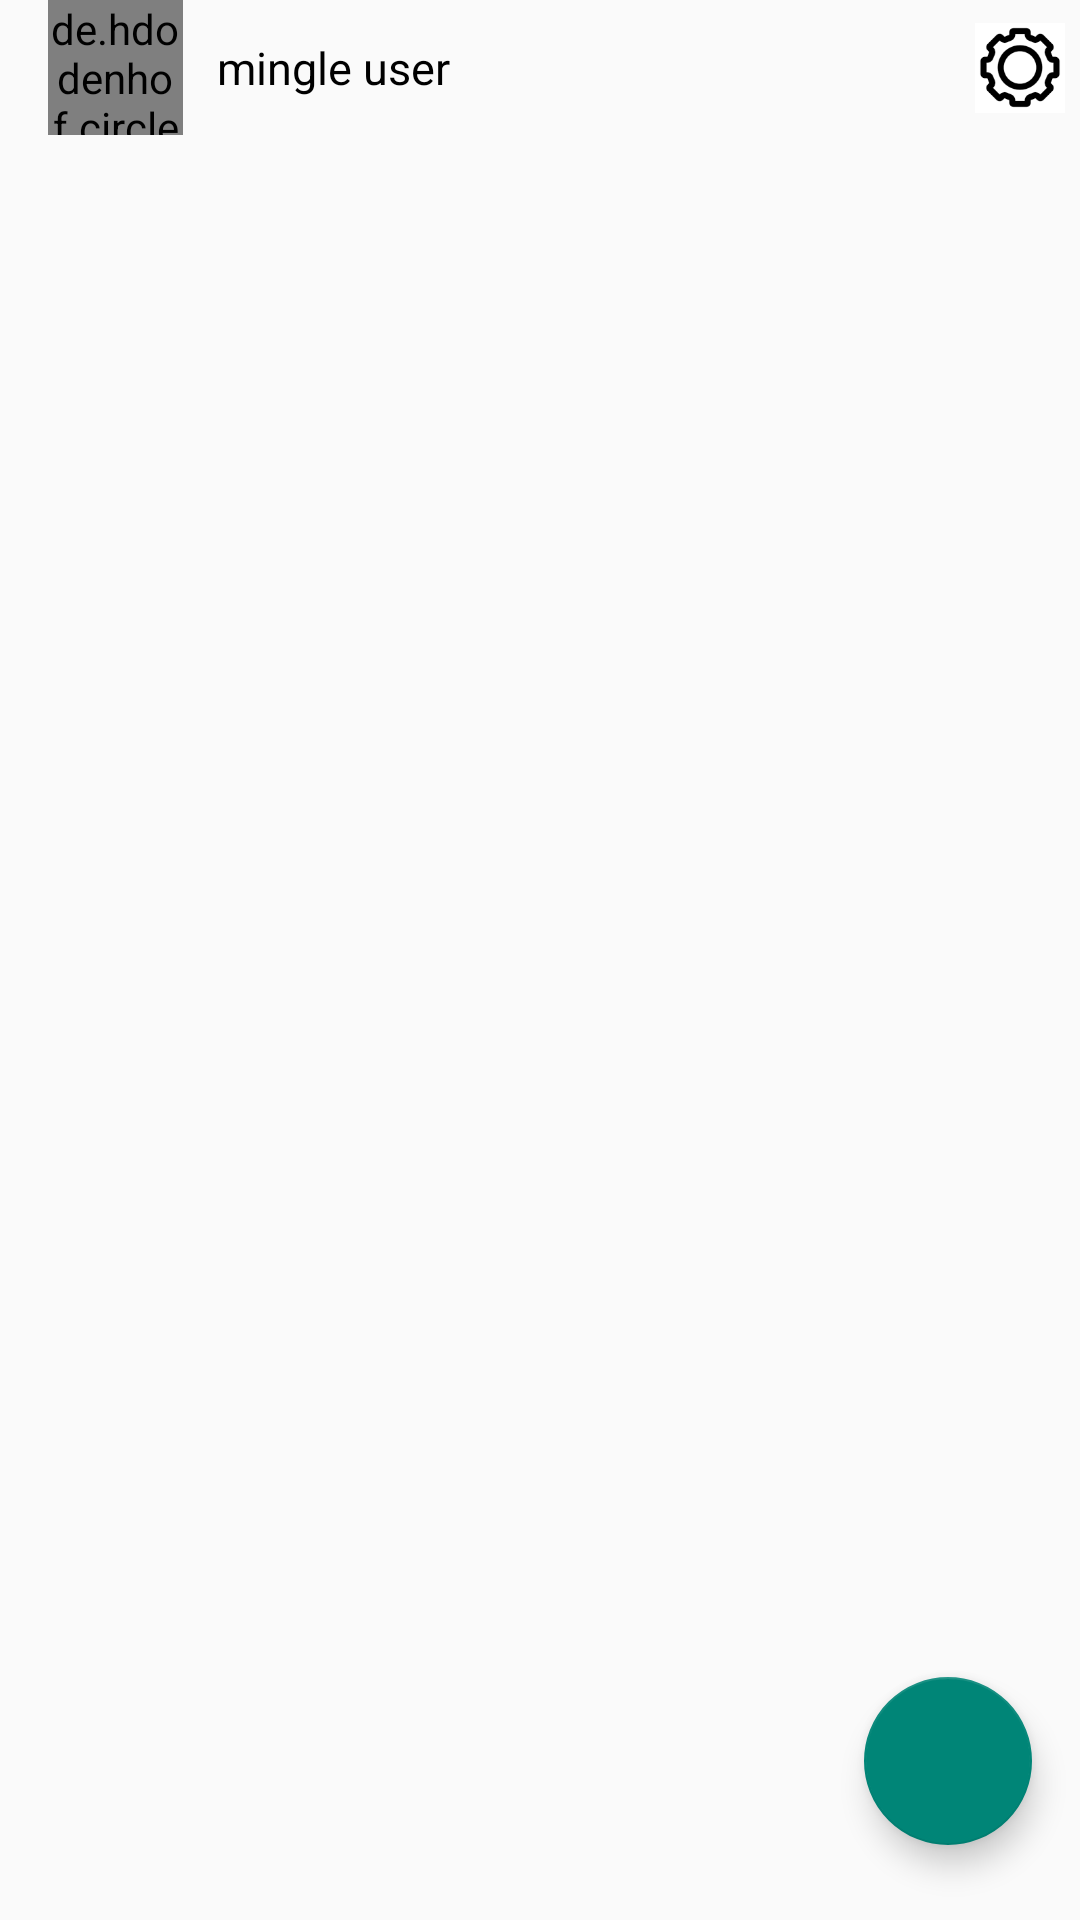

Icons on this 1080 x 1920 Android screen, each with its box as (x1, y1, x2, y2):
settings: (980, 28, 1060, 107)
